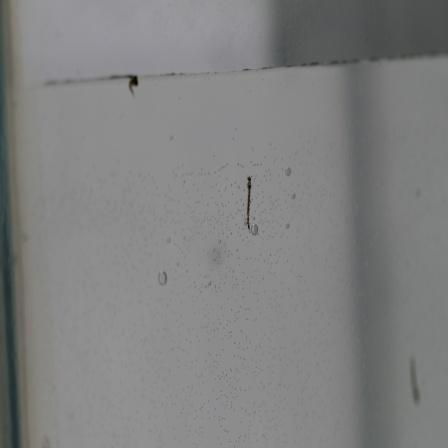Jentik-Nyamuk: (243, 175, 257, 233), (126, 73, 143, 99)
